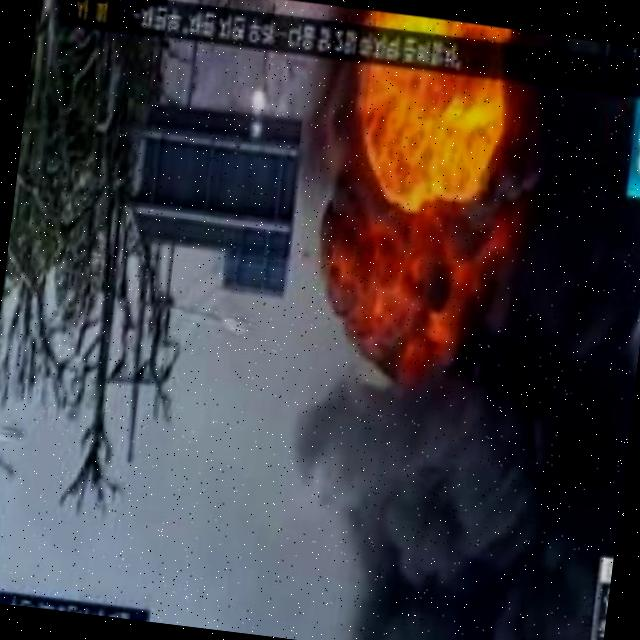fire: (338, 58, 502, 203), (359, 5, 515, 38)
